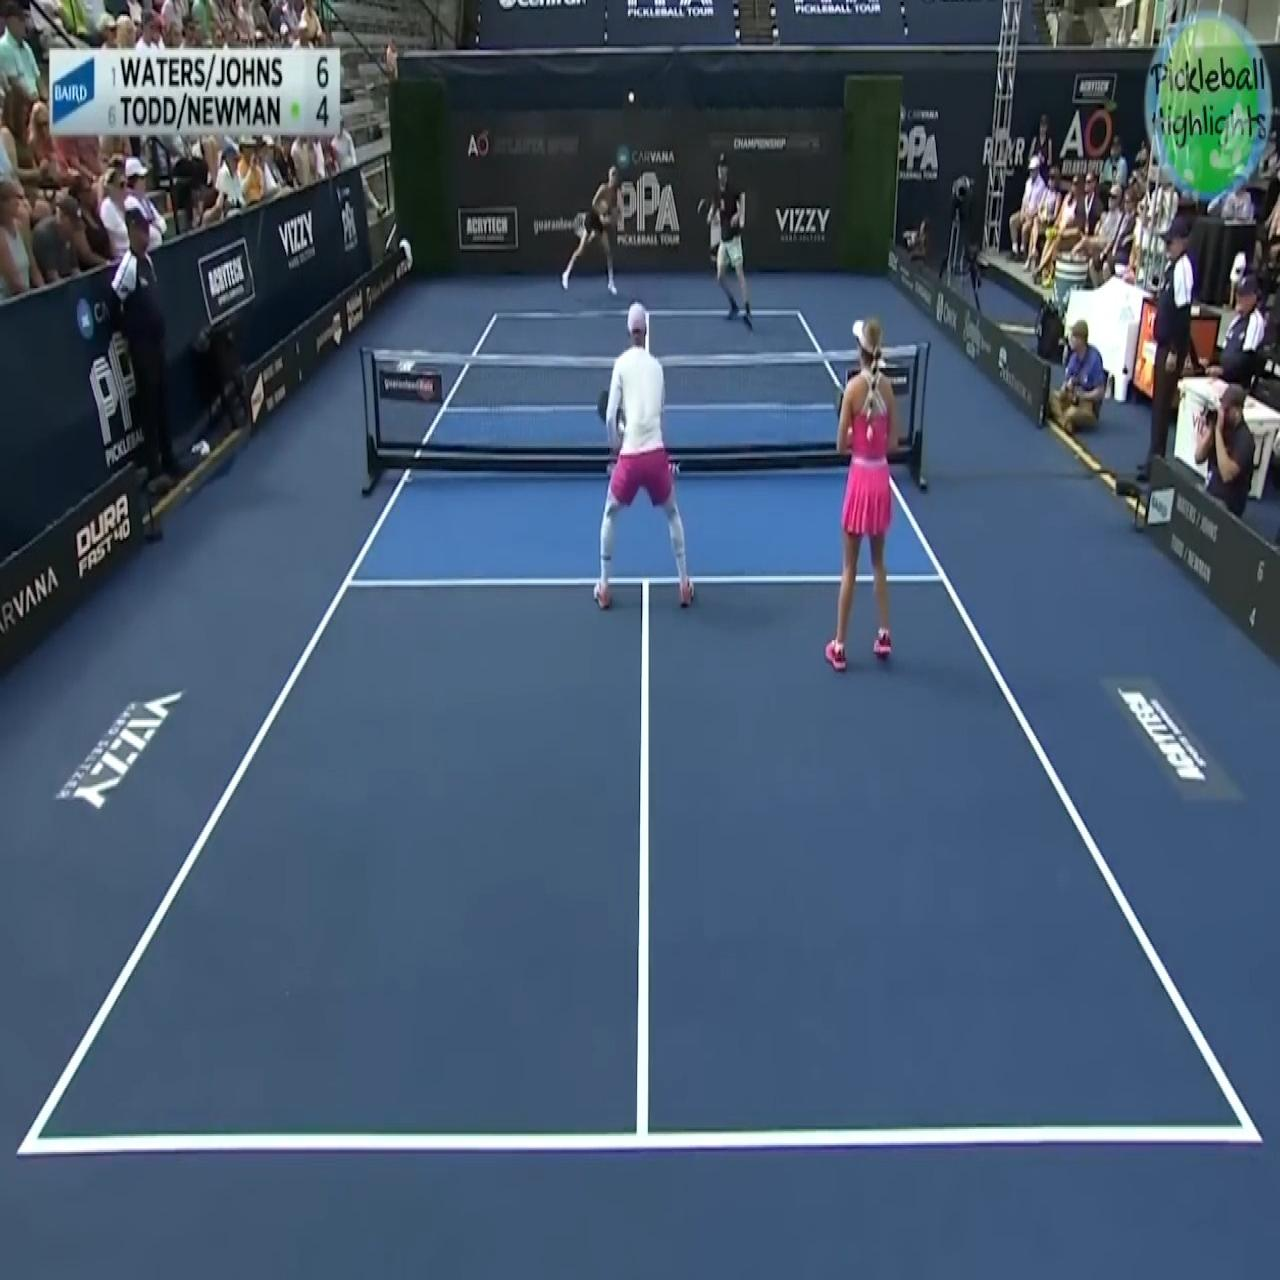Pickleball: (626, 87, 636, 107)
